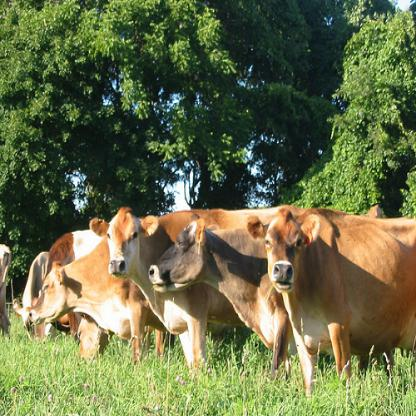cow: (247, 209, 415, 398), (90, 207, 280, 370), (27, 238, 164, 362), (148, 218, 275, 350), (9, 250, 48, 342), (44, 230, 104, 280), (0, 244, 11, 337)
